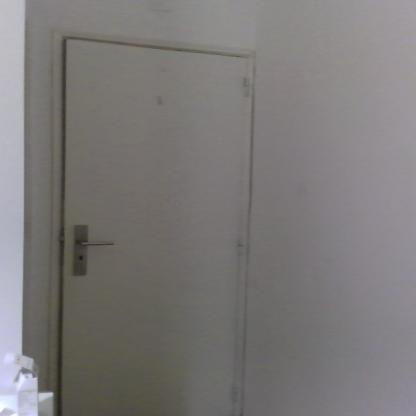door: (63, 38, 238, 416)
hinged: (242, 76, 250, 96), (232, 383, 239, 404), (238, 237, 244, 255)
lever: (76, 240, 116, 247)
